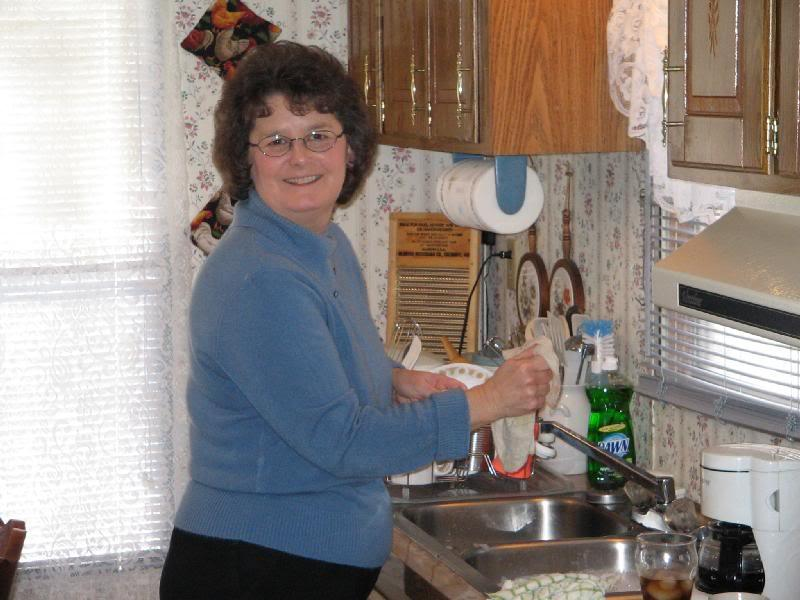person: (160, 40, 554, 600)
